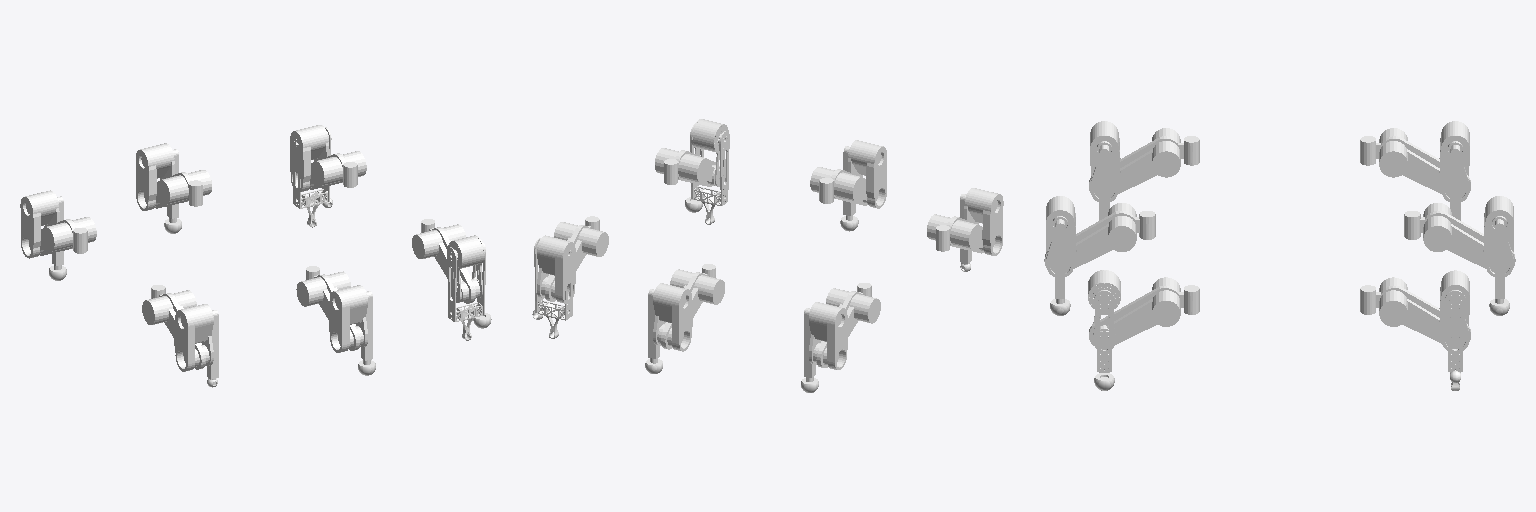
--- What the picture shows (computed from the rendered views, not written in the file) ---
Views: 3 orthographic renders of the robot side by side, from view 1: azimuth 30°, elevation 25°; view 2: azimuth 150°, elevation 25°; view 3: azimuth 270°, elevation 25°.
Robot: elspider3 — 26 links, 25 joints (18 revolute, 7 fixed); root link base; default pose: every joint at zero.
Visible links, largest first — view 1: RF_HIP, RM_THIGH, RB_THIGH, RB_HIP, LM_THIGH, RM_HIP, LB_THIGH, LB_HIP, LM_HIP, LF_HIP, LF_THIGH, RF_SHANK (+4 smaller); view 2: LM_THIGH, LB_THIGH, LM_HIP, LB_HIP, RM_THIGH, LF_HIP, RB_THIGH, RF_HIP, LF_THIGH, RM_HIP, RB_HIP, RF_SHANK (+4 smaller); view 3: RF_HIP, LF_HIP, RM_HIP, LM_HIP, RB_HIP, LB_HIP, RM_THIGH, LM_THIGH, RB_THIGH, LB_THIGH, LF_THIGH, LF_SHANK (+6 smaller).
Link boxes in pixels (x1=…): RF_HIP: x1=412, y1=219, x2=480, y2=303; RM_THIGH: x1=329, y1=285, x2=367, y2=352; RB_THIGH: x1=174, y1=304, x2=213, y2=371; RB_HIP: x1=142, y1=285, x2=209, y2=369; LM_THIGH: x1=136, y1=143, x2=174, y2=210; RM_HIP: x1=296, y1=266, x2=363, y2=350; LB_THIGH: x1=20, y1=190, x2=59, y2=258; LB_HIP: x1=29, y1=217, x2=96, y2=255; LM_HIP: x1=144, y1=170, x2=211, y2=208; LF_HIP: x1=309, y1=151, x2=366, y2=189; LF_THIGH: x1=290, y1=125, x2=329, y2=191; RF_SHANK: x1=447, y1=241, x2=485, y2=340; LM_THIGH: x1=653, y1=283, x2=692, y2=351; LB_THIGH: x1=809, y1=302, x2=847, y2=369; LM_HIP: x1=657, y1=264, x2=724, y2=349; LB_HIP: x1=813, y1=283, x2=880, y2=367; RM_THIGH: x1=848, y1=140, x2=886, y2=208; LF_HIP: x1=541, y1=216, x2=608, y2=301; RB_THIGH: x1=964, y1=188, x2=1003, y2=255; RF_HIP: x1=655, y1=148, x2=719, y2=186; LF_THIGH: x1=537, y1=235, x2=575, y2=303; RM_HIP: x1=810, y1=167, x2=878, y2=205; RB_HIP: x1=927, y1=214, x2=994, y2=253; RF_SHANK: x1=690, y1=124, x2=729, y2=224; RF_HIP: x1=1089, y1=277, x2=1199, y2=345; LF_HIP: x1=1360, y1=277, x2=1470, y2=348; RM_HIP: x1=1044, y1=203, x2=1155, y2=272; LM_HIP: x1=1404, y1=203, x2=1515, y2=272; RB_HIP: x1=1089, y1=128, x2=1199, y2=197; LB_HIP: x1=1360, y1=128, x2=1470, y2=197; RM_THIGH: x1=1046, y1=196, x2=1076, y2=276; LM_THIGH: x1=1483, y1=196, x2=1513, y2=276; RB_THIGH: x1=1090, y1=121, x2=1120, y2=201; LB_THIGH: x1=1439, y1=121, x2=1469, y2=201; LF_THIGH: x1=1439, y1=270, x2=1469, y2=350; LF_SHANK: x1=1445, y1=290, x2=1465, y2=390.
Size in the robot's own frame: 1.4 by 1.6 by 0.428 metres.
24 mesh visuals loaded from 25 distinct referenced files (24 binary STL); not drawn: 1 (reference not matched to a file when rendering).

robot.urdf — elspider3:
<?xml version="1.0" ?>
<!-- =================================================================================== -->
<!-- |    This document was autogenerated by xacro from robot.xacro                    | -->
<!-- |    EDITING THIS FILE BY HAND IS NOT RECOMMENDED                                 | -->
<!-- =================================================================================== -->
<robot name="elspider3">
  <!-- root link can not have interia, so add this link and joint-->
  <link name="base">
    <visual>
      <origin rpy="0 0 0" xyz="0 0 0"/>
      <geometry>
        <box size="0.001 0.001 0.001"/>
      </geometry>
    </visual>
  </link>
  <joint name="floating_base" type="fixed">
    <origin rpy="0 0 0" xyz="0 0 0"/>
    <parent link="base"/>
    <child link="trunk"/>
  </joint>
  <link name="trunk">
    <inertial>
      <origin rpy="0 0 0" xyz="-3.17836601824023E-05 -2.48295152551897E-05 0.0135000379414812"/>
      <mass value="35.697"/>
      <inertia ixx="2.673775" ixy="-0.361433135" ixz="0.0007611" iyy="7.16359135" iyz="-1.5915e-05" izz="9.49691187"/>
    </inertial>
    <visual>
      <origin rpy="0 0 0" xyz="0 0 0"/>
      <geometry>
        <mesh filename="package://robot/urdf/elspider3/meshes/base_link.STL"/>
      </geometry>
      <material name="">
        <color rgba="1 1 1 1"/>
      </material>
    </visual>
    <collision>
      <origin rpy="0 0 0" xyz="0 0 0"/>
      <geometry>
        <mesh filename="package://robot/urdf/elspider3/meshes/base_link.STL"/>
      </geometry>
    </collision>
  </link>
  <!-- <xacro:include filename="$(find robot)/urdf/elspider3/xacro/transmission.xacro"/> -->
  <!-- <xacro:include filename="$(find robot)/urdf/elspider3/xacro/gazebo.xacro"/> -->
  <!-- right mirror == 1, left mirror == -1 -->
  <link name="RF_HIP">
    <inertial>
      <origin rpy="0 0 0" xyz="0.13994 0 -0.038094"/>
      <inertia ixx="0.023983507" ixy="0.00012845" ixz="0.019229644" iyy="0.052366887" iyz="7.3833e-05" izz="0.048859116"/>
      <mass value="4.576"/>
    </inertial>
    <visual>
      <origin rpy="0 0 0" xyz="0 0 0"/>
      <geometry>
        <mesh filename="package://robot/urdf/elspider3/meshes/RF_HIP.STL"/>
      </geometry>
      <material name="">
        <color rgba="1 1 1 1"/>
      </material>
    </visual>
    <collision>
      <origin rpy="0 0 0" xyz="0 0 0"/>
      <geometry>
        <mesh filename="package://robot/urdf/elspider3/meshes/RF_HIP.STL"/>
      </geometry>
    </collision>
  </link>
  <joint name="RF_HAA" type="revolute">
    <origin rpy="0 0 -1.5708" xyz="0.6 -0.3 0"/>
    <parent link="trunk"/>
    <child link="RF_HIP"/>
    <axis xyz="0 0 1"/>
    <dynamics damping="0" friction="0"/>
    <limit effort="14.65" lower="-1.658" upper="1.658" velocity="108"/>
  </joint>
  <link name="RF_THIGH">
    <inertial>
      <origin rpy="0 0 0" xyz="0.10923291892502 -0.000624705561420247 -0.0166641862389202"/>
      <mass value="0.993"/>
      <inertia ixx="0.002436749" ixy="2.7289e-05" ixz="-0.000202297" iyy="0.006542962" iyz="7.172e-05" izz="0.005800246"/>
    </inertial>
    <visual>
      <origin rpy="0 0 0" xyz="0 0 0"/>
      <geometry>
        <mesh filename="package://robot/urdf/elspider3/meshes/RF_THIGH.STL"/>
      </geometry>
      <material name="">
        <color rgba="1 1 1 1"/>
      </material>
    </visual>
    <collision>
      <origin rpy="0 0 0" xyz="0 0 0"/>
      <geometry>
        <mesh filename="package://robot/urdf/elspider3/meshes/RF_THIGH.STL"/>
      </geometry>
    </collision>
  </link>
  <joint name="RF_HFE" type="revolute">
    <origin rpy="-1.5708 -1.5708 0" xyz="0.29613 0 -0.12556"/>
    <parent link="RF_HIP"/>
    <child link="RF_THIGH"/>
    <axis xyz="0 0 1"/>
    <dynamics damping="0" friction="0"/>
    <limit effort="16.22" lower="-0.5236" upper="3.5" velocity="180"/>
  </joint>
  <link name="RF_SHANK">
    <inertial>
      <origin rpy="0 0 0" xyz="0 -0.0816966215032782 -0.0418616598294677"/>
      <mass value="0.428"/>
      <!-- no mirror in ixy, ixz? -->
      <inertia ixx="0.004" ixy="-5.6e-08" ixz="1.3e-07" iyy="0.0012" iyz="-0.000306404" izz="0.004"/>
    </inertial>
    <visual>
      <origin rpy="0 0 0" xyz="0 0 0"/>
      <geometry>
        <mesh filename="package://robot/urdf/elspider3/meshes/RF_SHANK.STL"/>
      </geometry>
      <material name="">
        <color rgba="1 1 1 1"/>
      </material>
    </visual>
    <collision>
      <origin rpy="0 0 0" xyz="0 0 0"/>
      <geometry>
        <mesh filename="package://robot/urdf/elspider3/meshes/RF_SHANK.STL"/>
      </geometry>
    </collision>
  </link>
  <joint name="RF_KFE" type="revolute">
    <origin rpy="3.1416 0 1.5708" xyz="0.16 0 0"/>
    <parent link="RF_THIGH"/>
    <child link="RF_SHANK"/>
    <axis xyz="0 0 1"/>
    <dynamics damping="0" friction="0"/>
    <limit effort="16.22" lower="-1.5708" upper="4.25" velocity="180"/>
  </joint>
  <link name="RF_FOOT">
    <inertial>
      <origin rpy="0 0 0" xyz="0 0 -0.0204313049246201"/>
      <mass value="0.166"/>
      <inertia ixx="6.2496e-05" ixy="1e-09" ixz="0" iyy="6.2515e-05" iyz="2e-09" izz="8.4269e-05"/>
    </inertial>
    <visual>
      <origin rpy="0 0 0" xyz="0 0 0"/>
      <geometry>
        <mesh filename="package://robot/urdf/elspider3/meshes/RF_FOOT.STL"/>
      </geometry>
      <material name="">
        <color rgba="1 1 1 1"/>
      </material>
    </visual>
    <collision>
      <!-- avoid multiple points of contact with the ground -->
      <origin rpy="0 0 0" xyz="0 0 0"/>
      <geometry>
        <sphere radius="0.02"/>
      </geometry>
      <!-- <origin xyz="0 0 0" rpy="0 0 0" />
                <geometry>
                    <mesh filename="package://robot/urdf/elspider3/meshes/${name}_FOOT.STL" />
                </geometry> -->
    </collision>
  </link>
  <joint dont_collapse="true" name="RF_FIX" type="fixed">
    <origin rpy="1.5708 0 3.1416" xyz="0 -0.286 -0.07"/>
    <parent link="RF_SHANK"/>
    <child link="RF_FOOT"/>
    <axis xyz="0 0 0"/>
  </joint>
  <!-- right mirror == 1, left mirror == -1 -->
  <link name="RM_HIP">
    <inertial>
      <origin rpy="0 0 0" xyz="0.13994 0 -0.038094"/>
      <inertia ixx="0.023983507" ixy="0.00012845" ixz="0.019229644" iyy="0.052366887" iyz="7.3833e-05" izz="0.048859116"/>
      <mass value="4.576"/>
    </inertial>
    <visual>
      <origin rpy="0 0 0" xyz="0 0 0"/>
      <geometry>
        <mesh filename="package://robot/urdf/elspider3/meshes/RM_HIP.STL"/>
      </geometry>
      <material name="">
        <color rgba="1 1 1 1"/>
      </material>
    </visual>
    <collision>
      <origin rpy="0 0 0" xyz="0 0 0"/>
      <geometry>
        <mesh filename="package://robot/urdf/elspider3/meshes/RM_HIP.STL"/>
      </geometry>
    </collision>
  </link>
  <joint name="RM_HAA" type="revolute">
    <origin rpy="0 0 -1.5708" xyz="0 -0.45 0"/>
    <parent link="trunk"/>
    <child link="RM_HIP"/>
    <axis xyz="0 0 1"/>
    <dynamics damping="0" friction="0"/>
    <limit effort="14.65" lower="-1.658" upper="1.658" velocity="108"/>
  </joint>
  <link name="RM_THIGH">
    <inertial>
      <origin rpy="0 0 0" xyz="0.10923291892502 -0.000624705561420247 -0.0166641862389202"/>
      <mass value="0.993"/>
      <inertia ixx="0.002436749" ixy="2.7289e-05" ixz="-0.000202297" iyy="0.006542962" iyz="7.172e-05" izz="0.005800246"/>
    </inertial>
    <visual>
      <origin rpy="0 0 0" xyz="0 0 0"/>
      <geometry>
        <mesh filename="package://robot/urdf/elspider3/meshes/RM_THIGH.STL"/>
      </geometry>
      <material name="">
        <color rgba="1 1 1 1"/>
      </material>
    </visual>
    <collision>
      <origin rpy="0 0 0" xyz="0 0 0"/>
      <geometry>
        <mesh filename="package://robot/urdf/elspider3/meshes/RM_THIGH.STL"/>
      </geometry>
    </collision>
  </link>
  <joint name="RM_HFE" type="revolute">
    <origin rpy="-1.5708 -1.5708 0" xyz="0.29613 0 -0.12556"/>
    <parent link="RM_HIP"/>
    <child link="RM_THIGH"/>
    <axis xyz="0 0 1"/>
    <dynamics damping="0" friction="0"/>
    <limit effort="16.22" lower="-0.5236" upper="3.5" velocity="180"/>
  </joint>
  <link name="RM_SHANK">
    <inertial>
      <origin rpy="0 0 0" xyz="0 -0.0816966215032782 -0.0418616598294677"/>
      <mass value="0.428"/>
      <!-- no mirror in ixy, ixz? -->
      <inertia ixx="0.004" ixy="-5.6e-08" ixz="1.3e-07" iyy="0.0012" iyz="-0.000306404" izz="0.004"/>
    </inertial>
    <visual>
      <origin rpy="0 0 0" xyz="0 0 0"/>
      <geometry>
        <mesh filename="package://robot/urdf/elspider3/meshes/RM_SHANK.STL"/>
      </geometry>
      <material name="">
        <color rgba="1 1 1 1"/>
      </material>
    </visual>
    <collision>
      <origin rpy="0 0 0" xyz="0 0 0"/>
      <geometry>
        <mesh filename="package://robot/urdf/elspider3/meshes/RM_SHANK.STL"/>
      </geometry>
    </collision>
  </link>
  <joint name="RM_KFE" type="revolute">
    <origin rpy="3.1416 0 1.5708" xyz="0.16 0 0"/>
    <parent link="RM_THIGH"/>
    <child link="RM_SHANK"/>
    <axis xyz="0 0 1"/>
    <dynamics damping="0" friction="0"/>
    <limit effort="16.22" lower="-1.5708" upper="4.25" velocity="180"/>
  </joint>
  <link name="RM_FOOT">
    <inertial>
      <origin rpy="0 0 0" xyz="0 0 -0.0204313049246201"/>
      <mass value="0.166"/>
      <inertia ixx="6.2496e-05" ixy="1e-09" ixz="0" iyy="6.2515e-05" iyz="2e-09" izz="8.4269e-05"/>
    </inertial>
    <visual>
      <origin rpy="0 0 0" xyz="0 0 0"/>
      <geometry>
        <mesh filename="package://robot/urdf/elspider3/meshes/RM_FOOT.STL"/>
      </geometry>
      <material name="">
        <color rgba="1 1 1 1"/>
      </material>
    </visual>
    <collision>
      <!-- avoid multiple points of contact with the ground -->
      <origin rpy="0 0 0" xyz="0 0 0"/>
      <geometry>
        <sphere radius="0.02"/>
      </geometry>
      <!-- <origin xyz="0 0 0" rpy="0 0 0" />
                <geometry>
                    <mesh filename="package://robot/urdf/elspider3/meshes/${name}_FOOT.STL" />
                </geometry> -->
    </collision>
  </link>
  <joint dont_collapse="true" name="RM_FIX" type="fixed">
    <origin rpy="1.5708 0 3.1416" xyz="0 -0.286 -0.07"/>
    <parent link="RM_SHANK"/>
    <child link="RM_FOOT"/>
    <axis xyz="0 0 0"/>
  </joint>
  <!-- right mirror == 1, left mirror == -1 -->
  <link name="RB_HIP">
    <inertial>
      <origin rpy="0 0 0" xyz="0.13994 0 -0.038094"/>
      <inertia ixx="0.023983507" ixy="0.00012845" ixz="0.019229644" iyy="0.052366887" iyz="7.3833e-05" izz="0.048859116"/>
      <mass value="4.576"/>
    </inertial>
    <visual>
      <origin rpy="0 0 0" xyz="0 0 0"/>
      <geometry>
        <mesh filename="package://robot/urdf/elspider3/meshes/RB_HIP.STL"/>
      </geometry>
      <material name="">
        <color rgba="1 1 1 1"/>
      </material>
    </visual>
    <collision>
      <origin rpy="0 0 0" xyz="0 0 0"/>
      <geometry>
        <mesh filename="package://robot/urdf/elspider3/meshes/RB_HIP.STL"/>
      </geometry>
    </collision>
  </link>
  <joint name="RB_HAA" type="revolute">
    <origin rpy="0 0 -1.5708" xyz="-0.6 -0.3 0"/>
    <parent link="trunk"/>
    <child link="RB_HIP"/>
    <axis xyz="0 0 1"/>
    <dynamics damping="0" friction="0"/>
    <limit effort="14.65" lower="-1.658" upper="1.658" velocity="108"/>
  </joint>
  <link name="RB_THIGH">
    <inertial>
      <origin rpy="0 0 0" xyz="0.10923291892502 -0.000624705561420247 -0.0166641862389202"/>
      <mass value="0.993"/>
      <inertia ixx="0.002436749" ixy="2.7289e-05" ixz="-0.000202297" iyy="0.006542962" iyz="7.172e-05" izz="0.005800246"/>
    </inertial>
    <visual>
      <origin rpy="0 0 0" xyz="0 0 0"/>
      <geometry>
        <mesh filename="package://robot/urdf/elspider3/meshes/RB_THIGH.STL"/>
      </geometry>
      <material name="">
        <color rgba="1 1 1 1"/>
      </material>
    </visual>
    <collision>
      <origin rpy="0 0 0" xyz="0 0 0"/>
      <geometry>
        <mesh filename="package://robot/urdf/elspider3/meshes/RB_THIGH.STL"/>
      </geometry>
    </collision>
  </link>
  <joint name="RB_HFE" type="revolute">
    <origin rpy="-1.5708 -1.5708 0" xyz="0.29613 0 -0.12556"/>
    <parent link="RB_HIP"/>
    <child link="RB_THIGH"/>
    <axis xyz="0 0 1"/>
    <dynamics damping="0" friction="0"/>
    <limit effort="16.22" lower="-0.5236" upper="3.5" velocity="180"/>
  </joint>
  <link name="RB_SHANK">
    <inertial>
      <origin rpy="0 0 0" xyz="0 -0.0816966215032782 -0.0418616598294677"/>
      <mass value="0.428"/>
      <!-- no mirror in ixy, ixz? -->
      <inertia ixx="0.004" ixy="-5.6e-08" ixz="1.3e-07" iyy="0.0012" iyz="-0.000306404" izz="0.004"/>
    </inertial>
    <visual>
      <origin rpy="0 0 0" xyz="0 0 0"/>
      <geometry>
        <mesh filename="package://robot/urdf/elspider3/meshes/RB_SHANK.STL"/>
      </geometry>
      <material name="">
        <color rgba="1 1 1 1"/>
      </material>
    </visual>
    <collision>
      <origin rpy="0 0 0" xyz="0 0 0"/>
      <geometry>
        <mesh filename="package://robot/urdf/elspider3/meshes/RB_SHANK.STL"/>
      </geometry>
    </collision>
  </link>
  <joint name="RB_KFE" type="revolute">
    <origin rpy="3.1416 0 1.5708" xyz="0.16 0 0"/>
    <parent link="RB_THIGH"/>
    <child link="RB_SHANK"/>
    <axis xyz="0 0 1"/>
    <dynamics damping="0" friction="0"/>
    <limit effort="16.22" lower="-1.5708" upper="4.25" velocity="180"/>
  </joint>
  <link name="RB_FOOT">
    <inertial>
      <origin rpy="0 0 0" xyz="0 0 -0.0204313049246201"/>
      <mass value="0.166"/>
      <inertia ixx="6.2496e-05" ixy="1e-09" ixz="0" iyy="6.2515e-05" iyz="2e-09" izz="8.4269e-05"/>
    </inertial>
    <visual>
      <origin rpy="0 0 0" xyz="0 0 0"/>
      <geometry>
        <mesh filename="package://robot/urdf/elspider3/meshes/RB_FOOT.STL"/>
      </geometry>
      <material name="">
        <color rgba="1 1 1 1"/>
      </material>
    </visual>
    <collision>
      <!-- avoid multiple points of contact with the ground -->
      <origin rpy="0 0 0" xyz="0 0 0"/>
      <geometry>
        <sphere radius="0.02"/>
      </geometry>
      <!-- <origin xyz="0 0 0" rpy="0 0 0" />
                <geometry>
                    <mesh filename="package://robot/urdf/elspider3/meshes/${name}_FOOT.STL" />
                </geometry> -->
    </collision>
  </link>
  <joint dont_collapse="true" name="RB_FIX" type="fixed">
    <origin rpy="1.5708 0 3.1416" xyz="0 -0.286 -0.07"/>
    <parent link="RB_SHANK"/>
    <child link="RB_FOOT"/>
    <axis xyz="0 0 0"/>
  </joint>
  <!-- right mirror == 1, left mirror == -1 -->
  <link name="LF_HIP">
    <inertial>
      <origin rpy="0 0 0" xyz="0 0.139938085683012 -0.0380935415481548"/>
      <inertia ixx="0.052366887" ixy="-0.00012845" ixz="7.3833e-05" iyy="0.023983507" iyz="0.019229644" izz="0.048859116"/>
      <mass value="4.576"/>
    </inertial>
    <visual>
      <origin rpy="0 0 0" xyz="0 0 0"/>
      <geometry>
        <mesh filename="package://robot/urdf/elspider3/meshes/LF_HIP.STL"/>
      </geometry>
      <material name="">
        <color rgba="1 1 1 1"/>
      </material>
    </visual>
    <collision>
      <origin rpy="0 0 0" xyz="0 0 0"/>
      <geometry>
        <mesh filename="package://robot/urdf/elspider3/meshes/LF_HIP.STL"/>
      </geometry>
    </collision>
  </link>
  <joint name="LF_HAA" type="revolute">
    <origin rpy="0 0 0" xyz="0.6 0.3 0"/>
    <parent link="trunk"/>
    <child link="LF_HIP"/>
    <axis xyz="0 0 -1"/>
    <dynamics damping="0" friction="0"/>
    <limit effort="14.65" lower="-1.658" upper="1.658" velocity="108"/>
  </joint>
  <link name="LF_THIGH">
    <inertial>
      <origin rpy="0 0 0" xyz="0.10923291892502 -0.000624705561420247 0.0166641862389202"/>
      <mass value="0.993"/>
      <inertia ixx="0.002436749" ixy="-2.7289e-05" ixz="0.000202297" iyy="0.006542962" iyz="7.172e-05" izz="0.005800246"/>
    </inertial>
    <visual>
      <origin rpy="0 0 0" xyz="0 0 0"/>
      <geometry>
        <mesh filename="package://robot/urdf/elspider3/meshes/LF_THIGH.STL"/>
      </geometry>
      <material name="">
        <color rgba="1 1 1 1"/>
      </material>
    </visual>
    <collision>
      <origin rpy="0 0 0" xyz="0 0 0"/>
      <geometry>
        <mesh filename="package://robot/urdf/elspider3/meshes/LF_THIGH.STL"/>
      </geometry>
    </collision>
  </link>
  <joint name="LF_HFE" type="revolute">
    <origin rpy="0 -1.5708 0" xyz="0 0.29613 -0.12556"/>
    <parent link="LF_HIP"/>
    <child link="LF_THIGH"/>
    <axis xyz="0 0 1"/>
    <dynamics damping="0" friction="0"/>
    <limit effort="16.22" lower="-0.5236" upper="3.5" velocity="180"/>
  </joint>
  <link name="LF_SHANK">
    <inertial>
      <origin rpy="0 0 0" xyz="0 -0.0816966215032782 0.0418616598294677"/>
      <mass value="0.428"/>
      <!-- no mirror in ixy, ixz? -->
      <inertia ixx="0.004" ixy="5.6e-08" ixz="1.3e-07" iyy="0.0012" iyz="0.000306404" izz="0.004"/>
    </inertial>
    <visual>
      <origin rpy="0 0 0" xyz="0 0 0"/>
      <geometry>
        <mesh filename="package://robot/urdf/elspider3/meshes/LF_SHANK.STL"/>
      </geometry>
      <material name="">
        <color rgba="1 1 1 1"/>
      </material>
    </visual>
    <collision>
      <origin rpy="0 0 0" xyz="0 0 0"/>
      <geometry>
        <mesh filename="package://robot/urdf/elspider3/meshes/LF_SHANK.STL"/>
      </geometry>
    </collision>
  </link>
  <joint name="LF_KFE" type="revolute">
    <origin rpy="3.1416 0 1.5708" xyz="0.16 0 0"/>
    <parent link="LF_THIGH"/>
    <child link="LF_SHANK"/>
    <axis xyz="0 0 1"/>
    <dynamics damping="0" friction="0"/>
    <limit effort="16.22" lower="-1.5708" upper="4.25" velocity="180"/>
  </joint>
  <link name="LF_FOOT">
    <inertial>
      <origin rpy="0 0 0" xyz="0 0 -0.0204313049246201"/>
      <mass value="0.166"/>
      <inertia ixx="6.2496e-05" ixy="1e-09" ixz="0" iyy="6.2515e-05" iyz="2e-09" izz="8.4269e-05"/>
    </inertial>
    <visual>
      <origin rpy="0 0 0" xyz="0 0 0"/>
      <geometry>
        <mesh filename="package://robot/urdf/elspider3/meshes/LF_FOOT.STL"/>
      </geometry>
      <material name="">
        <color rgba="1 1 1 1"/>
      </material>
    </visual>
    <collision>
      <!-- avoid multiple points of contact with the ground -->
      <origin rpy="0 0 0" xyz="0 0 0"/>
      <geometry>
        <sphere radius="0.02"/>
      </geometry>
      <!-- <origin xyz="0 0 0" rpy="0 0 0" />
                <geometry>
                    <mesh filename="package://robot/urdf/elspider3/meshes/${name}_FOOT.STL" />
                </geometry> -->
    </collision>
  </link>
  <joint dont_collapse="true" name="LF_FIX" type="fixed">
    <origin rpy="1.570796326794 0 3.14159265358" xyz="0 -0.286 0.07"/>
    <parent link="LF_SHANK"/>
    <child link="LF_FOOT"/>
    <axis xyz="0 0 0"/>
  </joint>
  <!-- right mirror == 1, left mirror == -1 -->
  <link name="LM_HIP">
    <inertial>
      <origin rpy="0 0 0" xyz="0 0.139938085683012 -0.0380935415481548"/>
      <inertia ixx="0.052366887" ixy="-0.00012845" ixz="7.3833e-05" iyy="0.023983507" iyz="0.019229644" izz="0.048859116"/>
      <mass value="4.576"/>
    </inertial>
    <visual>
      <origin rpy="0 0 0" xyz="0 0 0"/>
      <geometry>
        <mesh filename="package://robot/urdf/elspider3/meshes/LM_HIP.STL"/>
      </geometry>
      <material name="">
        <color rgba="1 1 1 1"/>
      </material>
    </visual>
    <collision>
      <origin rpy="0 0 0" xyz="0 0 0"/>
      <geometry>
        <mesh filename="package://robot/urdf/elspider3/meshes/LM_HIP.STL"/>
      </geometry>
    </collision>
  </link>
  <joint name="LM_HAA" type="revolute">
    <origin rpy="0 0 0" xyz="0 0.45 0"/>
    <parent link="trunk"/>
    <child link="LM_HIP"/>
    <axis xyz="0 0 -1"/>
    <dynamics damping="0" friction="0"/>
    <limit effort="14.65" lower="-1.658" upper="1.658" velocity="108"/>
  </joint>
  <link name="LM_THIGH">
    <inertial>
      <origin rpy="0 0 0" xyz="0.10923291892502 -0.000624705561420247 0.0166641862389202"/>
      <mass value="0.993"/>
      <inertia ixx="0.002436749" ixy="-2.7289e-05" ixz="0.000202297" iyy="0.006542962" iyz="7.172e-05" izz="0.005800246"/>
    </inertial>
    <visual>
      <origin rpy="0 0 0" xyz="0 0 0"/>
      <geometry>
        <mesh filename="package://robot/urdf/elspider3/meshes/LM_THIGH.STL"/>
      </geometry>
      <material name="">
        <color rgba="1 1 1 1"/>
      </material>
    </visual>
    <collision>
      <origin rpy="0 0 0" xyz="0 0 0"/>
      <geometry>
        <mesh filename="package://robot/urdf/elspider3/meshes/LM_THIGH.STL"/>
      </geometry>
    </collision>
  </link>
  <joint name="LM_HFE" type="revolute">
    <origin rpy="0 -1.5708 0" xyz="0 0.29613 -0.12556"/>
    <parent link="LM_HIP"/>
    <child link="LM_THIGH"/>
    <axis xyz="0 0 1"/>
    <dynamics damping="0" friction="0"/>
    <limit effort="16.22" lower="-0.5236" upper="3.5" velocity="180"/>
  </joint>
  <link name="LM_SHANK">
    <inertial>
      <origin rpy="0 0 0" xyz="0 -0.0816966215032782 0.0418616598294677"/>
      <mass value="0.428"/>
      <!-- no mirror in ixy, ixz? -->
      <inertia ixx="0.004" ixy="5.6e-08" ixz="1.3e-07" iyy="0.0012" iyz="0.000306404" izz="0.004"/>
    </inertial>
    <visual>
      <origin rpy="0 0 0" xyz="0 0 0"/>
      <geometry>
        <mesh filename="package://robot/urdf/elspider3/meshes/LM_SHANK.STL"/>
      </geometry>
      <material name="">
        <color rgba="1 1 1 1"/>
      </material>
    </visual>
    <collision>
      <origin rpy="0 0 0" xyz="0 0 0"/>
      <geometry>
        <mesh filename="package://robot/urdf/elspider3/meshes/LM_SHANK.STL"/>
      </geometry>
    </collision>
  </link>
  <joint name="LM_KFE" type="revolute">
    <origin rpy="3.1416 0 1.5708" xyz="0.16 0 0"/>
    <parent link="LM_THIGH"/>
    <child link="LM_SHANK"/>
    <axis xyz="0 0 1"/>
    <dynamics damping="0" friction="0"/>
    <limit effort="16.22" lower="-1.5708" upper="4.25" velocity="180"/>
  </joint>
  <link name="LM_FOOT">
    <inertial>
      <origin rpy="0 0 0" xyz="0 0 -0.0204313049246201"/>
      <mass value="0.166"/>
      <inertia ixx="6.2496e-05" ixy="1e-09" ixz="0" iyy="6.2515e-05" iyz="2e-09" izz="8.4269e-05"/>
    </inertial>
    <visual>
      <origin rpy="0 0 0" xyz="0 0 0"/>
      <geometry>
        <mesh filename="package://robot/urdf/elspider3/meshes/LM_FOOT.STL"/>
      </geometry>
      <material name="">
        <color rgba="1 1 1 1"/>
      </material>
    </visual>
    <collision>
      <!-- avoid multiple points of contact with the ground -->
      <origin rpy="0 0 0" xyz="0 0 0"/>
      <geometry>
        <sphere radius="0.02"/>
      </geometry>
      <!-- <origin xyz="0 0 0" rpy="0 0 0" />
                <geometry>
                    <mesh filename="package://robot/urdf/elspider3/meshes/${name}_FOOT.STL" />
                </geometry> -->
    </collision>
  </link>
  <joint dont_collapse="true" name="LM_FIX" type="fixed">
    <origin rpy="1.570796326794 0 3.14159265358" xyz="0 -0.286 0.07"/>
    <parent link="LM_SHANK"/>
    <child link="LM_FOOT"/>
    <axis xyz="0 0 0"/>
  </joint>
  <!-- right mirror == 1, left mirror == -1 -->
  <link name="LB_HIP">
    <inertial>
      <origin rpy="0 0 0" xyz="0 0.139938085683012 -0.0380935415481548"/>
      <inertia ixx="0.052366887" ixy="-0.00012845" ixz="7.3833e-05" iyy="0.023983507" iyz="0.019229644" izz="0.048859116"/>
      <mass value="4.576"/>
    </inertial>
    <visual>
      <origin rpy="0 0 0" xyz="0 0 0"/>
      <geometry>
        <mesh filename="package://robot/urdf/elspider3/meshes/LB_HIP.STL"/>
      </geometry>
      <material name="">
        <color rgba="1 1 1 1"/>
      </material>
    </visual>
    <collision>
      <origin rpy="0 0 0" xyz="0 0 0"/>
      <geometry>
        <mesh filename="package://robot/urdf/elspider3/meshes/LB_HIP.STL"/>
      </geometry>
    </collision>
  </link>
  <joint name="LB_HAA" type="revolute">
    <origin rpy="0 0 0" xyz="-0.6 0.3 0"/>
    <parent link="trunk"/>
    <child link="LB_HIP"/>
    <axis xyz="0 0 -1"/>
    <dynamics damping="0" friction="0"/>
    <limit effort="14.65" lower="-1.658" upper="1.658" velocity="108"/>
  </joint>
  <link name="LB_THIGH">
    <inertial>
      <origin rpy="0 0 0" xyz="0.10923291892502 -0.000624705561420247 0.0166641862389202"/>
      <mass value="0.993"/>
      <inertia ixx="0.002436749" ixy="-2.7289e-05" ixz="0.000202297" iyy="0.006542962" iyz="7.172e-05" izz="0.005800246"/>
    </inertial>
    <visual>
      <origin rpy="0 0 0" xyz="0 0 0"/>
      <geometry>
        <mesh filename="package://robot/urdf/elspider3/meshes/LB_THIGH.STL"/>
      </geometry>
      <material name="">
        <color rgba="1 1 1 1"/>
      </material>
    </visual>
    <collision>
      <origin rpy="0 0 0" xyz="0 0 0"/>
      <geometry>
        <mesh filename="package://robot/urdf/elspider3/meshes/LB_THIGH.STL"/>
      </geometry>
    </collision>
  </link>
  <joint name="LB_HFE" type="revolute">
    <origin rpy="0 -1.5708 0" xyz="0 0.29613 -0.12556"/>
    <parent link="LB_HIP"/>
    <child link="LB_THIGH"/>
    <axis xyz="0 0 1"/>
    <dynamics damping="0" friction="0"/>
    <limit effort="16.22" lower="-0.5236" upper="3.5" velocity="180"/>
  </joint>
  <link name="LB_SHANK">
    <inertial>
      <origin rpy="0 0 0" xyz="0 -0.0816966215032782 0.0418616598294677"/>
      <mass value="0.428"/>
      <!-- no mirror in ixy, ixz? -->
      <inertia ixx="0.004" ixy="5.6e-08" ixz="1.3e-07" iyy="0.0012" iyz="0.000306404" izz="0.004"/>
    </inertial>
    <visual>
      <origin rpy="0 0 0" xyz="0 0 0"/>
      <geometry>
        <mesh filename="package://robot/urdf/elspider3/meshes/LB_SHANK.STL"/>
      </geometry>
      <material name="">
        <color rgba="1 1 1 1"/>
      </material>
    </visual>
    <collision>
      <origin rpy="0 0 0" xyz="0 0 0"/>
      <geometry>
        <mesh filename="package://robot/urdf/elspider3/meshes/LB_SHANK.STL"/>
      </geometry>
    </collision>
  </link>
  <joint name="LB_KFE" type="revolute">
    <origin rpy="3.1416 0 1.5708" xyz="0.16 0 0"/>
    <parent link="LB_THIGH"/>
    <child link="LB_SHANK"/>
    <axis xyz="0 0 1"/>
    <dynamics damping="0" friction="0"/>
    <limit effort="16.22" lower="-1.5708" upper="4.25" velocity="180"/>
  </joint>
  <link name="LB_FOOT">
    <inertial>
      <origin rpy="0 0 0" xyz="0 0 -0.0204313049246201"/>
      <mass value="0.166"/>
      <inertia ixx="6.2496e-05" ixy="1e-09" ixz="0" iyy="6.2515e-05" iyz="2e-09" izz="8.4269e-05"/>
    </inertial>
    <visual>
      <origin rpy="0 0 0" xyz="0 0 0"/>
      <geometry>
        <mesh filename="package://robot/urdf/elspider3/meshes/LB_FOOT.STL"/>
      </geometry>
      <material name="">
        <color rgba="1 1 1 1"/>
      </material>
    </visual>
    <collision>
      <!-- avoid multiple points of contact with the ground -->
      <origin rpy="0 0 0" xyz="0 0 0"/>
      <geometry>
        <sphere radius="0.02"/>
      </geometry>
      <!-- <origin xyz="0 0 0" rpy="0 0 0" />
                <geometry>
                    <mesh filename="package://robot/urdf/elspider3/meshes/${name}_FOOT.STL" />
                </geometry> -->
    </collision>
  </link>
  <joint dont_collapse="true" name="LB_FIX" type="fixed">
    <origin rpy="1.570796326794 0 3.14159265358" xyz="0 -0.286 0.07"/>
    <parent link="LB_SHANK"/>
    <child link="LB_FOOT"/>
    <axis xyz="0 0 0"/>
  </joint>
</robot>
